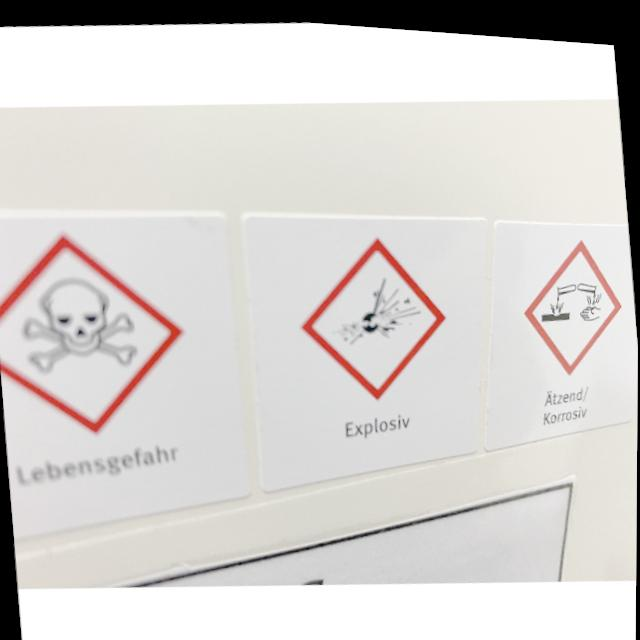acute toxicity: (18, 266, 140, 379)
corrosive: (537, 267, 607, 318)
explosive: (326, 263, 425, 349)
